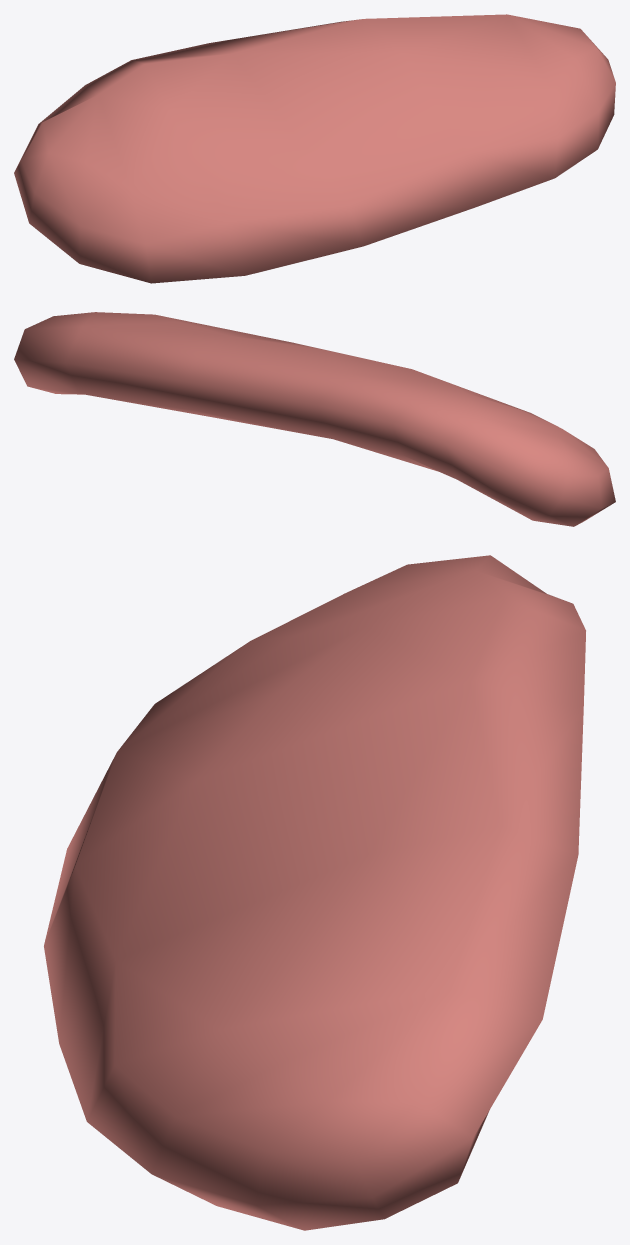
3 renders of one model, top to bottom at view 1: azimuth 30°, elevation 25°; view 2: azimuth 150°, elevation 25°; view 3: azimuth 270°, elevation 25°, orthographic. The views are drawn at different scales.
Visible parts, largest first — view 1: ZA_d9c4b9902b089c13; view 2: ZA_d9c4b9902b089c13; view 3: ZA_d9c4b9902b089c13.
Boxes of the visible parts, left/top/right/bottom form: ZA_d9c4b9902b089c13: left=14, top=14, right=615, bottom=283; ZA_d9c4b9902b089c13: left=14, top=312, right=615, bottom=526; ZA_d9c4b9902b089c13: left=44, top=555, right=585, bottom=1230.
Size of the model in its own units: 0.00374 by 0.000889 by 0.00153.
